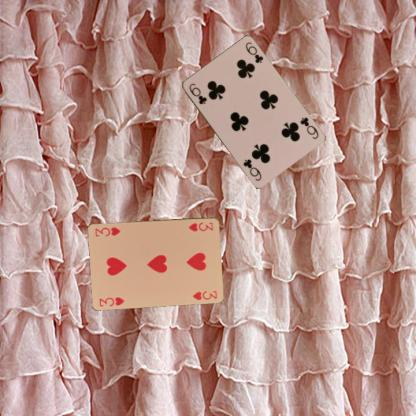3h: (96, 294, 126, 307), (186, 220, 214, 232)
6c: (186, 80, 208, 106), (297, 115, 319, 140)
